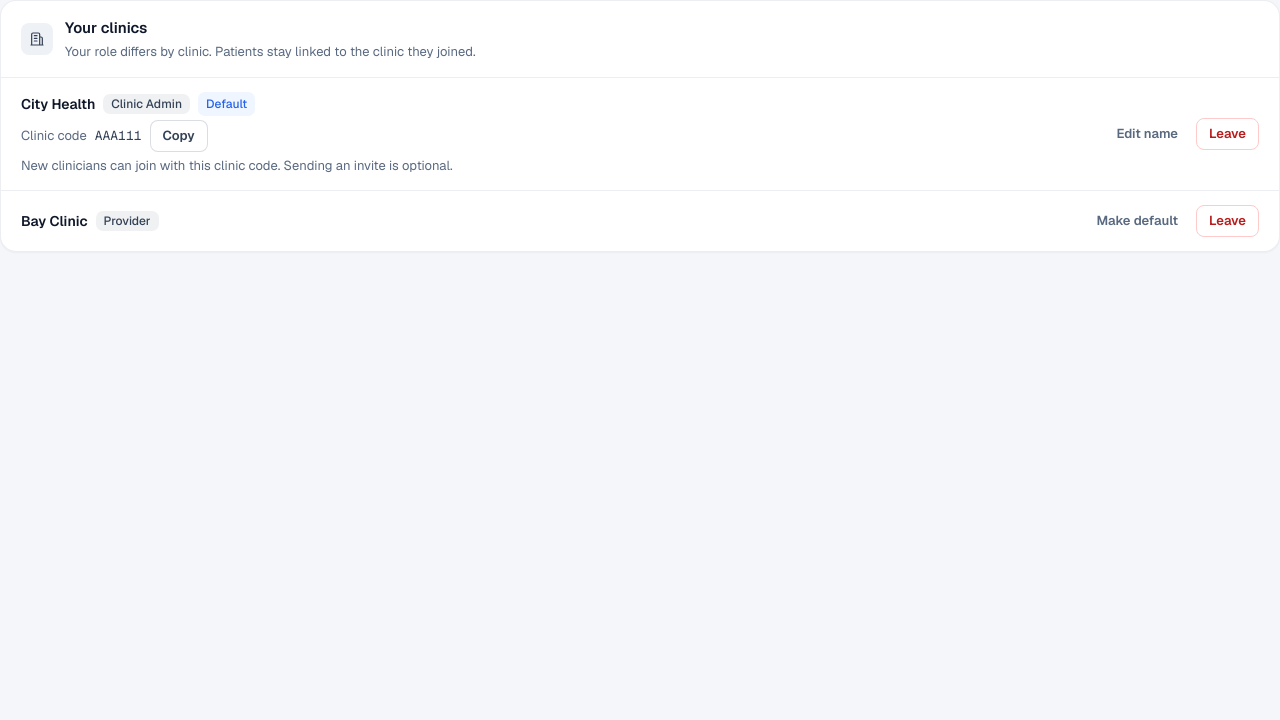
Test case: Your clinics card › shows the server's reason when a leave is refused
The image size is (1280, 720).
Click the button with aria-label "Leave City Health": (1228, 134) 1196,118 -> 1259,150
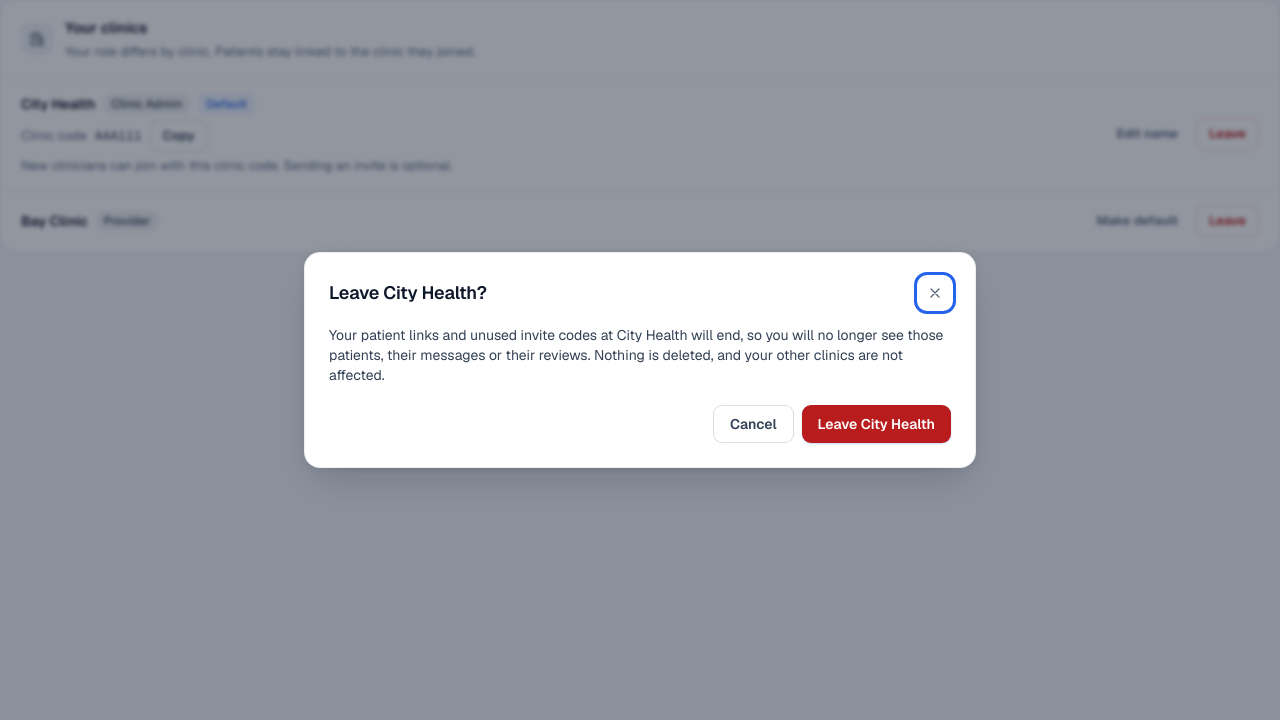
Click the button "Leave City Health": (876, 424) 802,405 -> 951,443
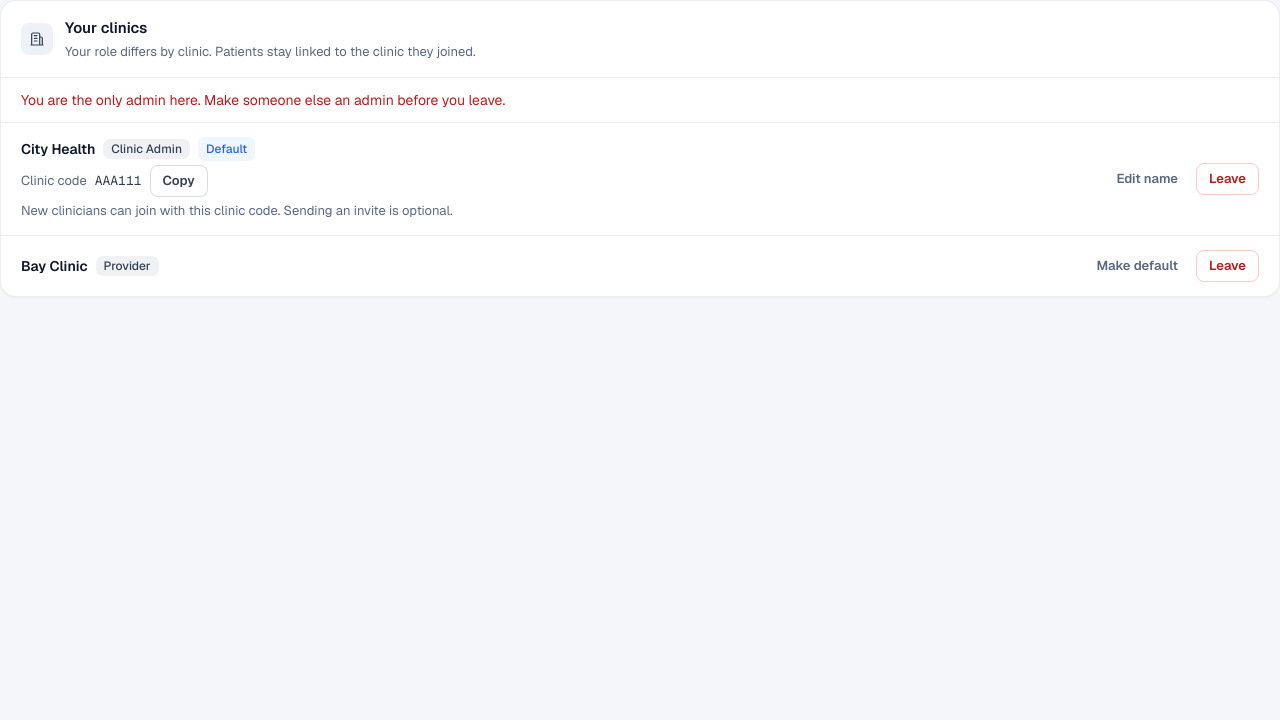
Expected: the message shows "You are the only admin here.", 21,91 -> 505,109
